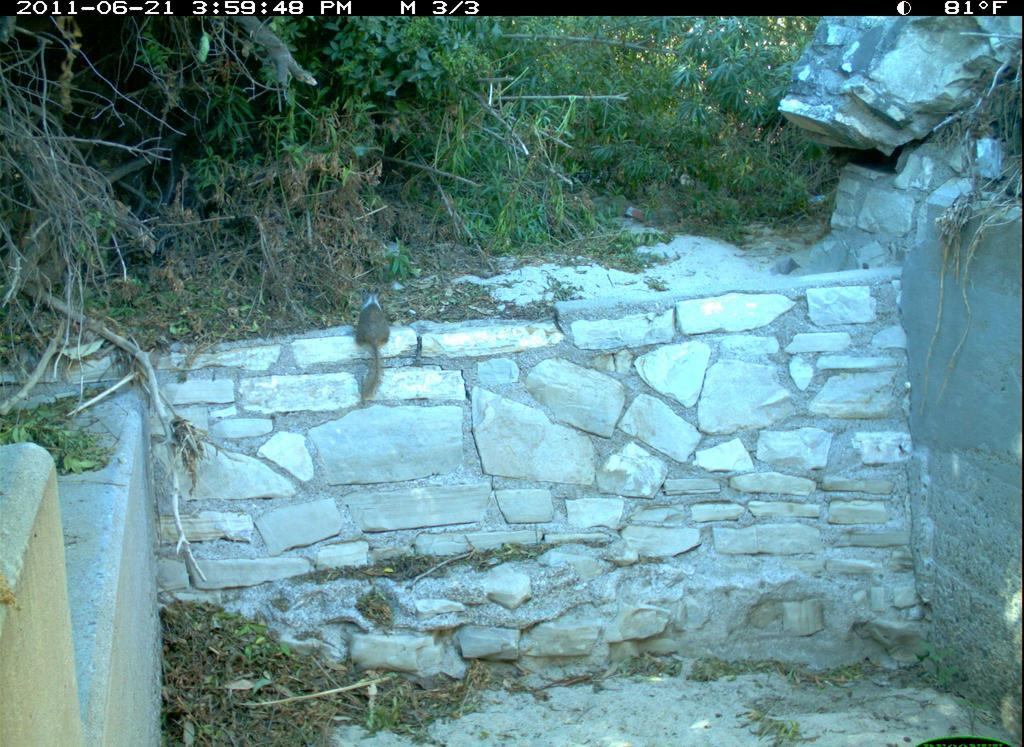squirrel: (347, 282, 416, 410)
